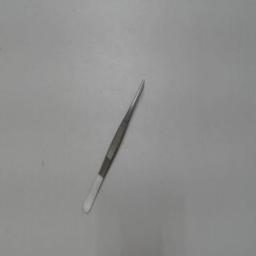Gillies Toothed Dissector: (76, 71, 152, 221)
